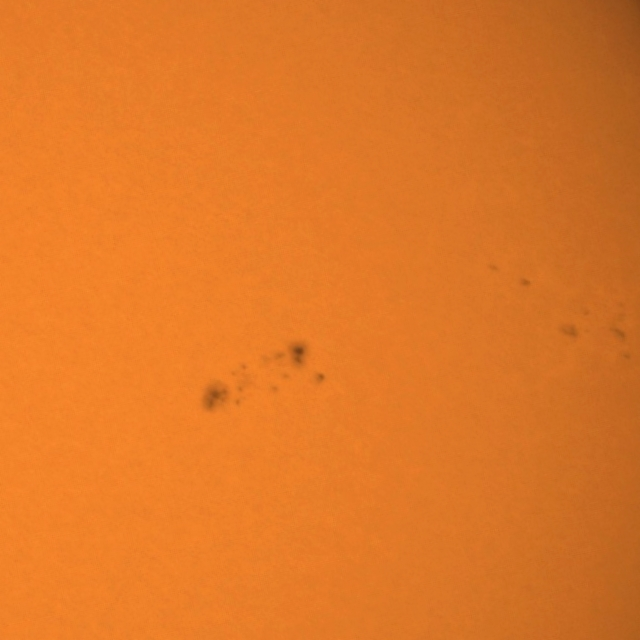sunspot: (272, 340, 312, 385), (203, 376, 246, 413), (558, 322, 586, 342), (228, 363, 249, 385), (486, 262, 501, 275), (314, 371, 327, 385), (518, 277, 532, 290)
